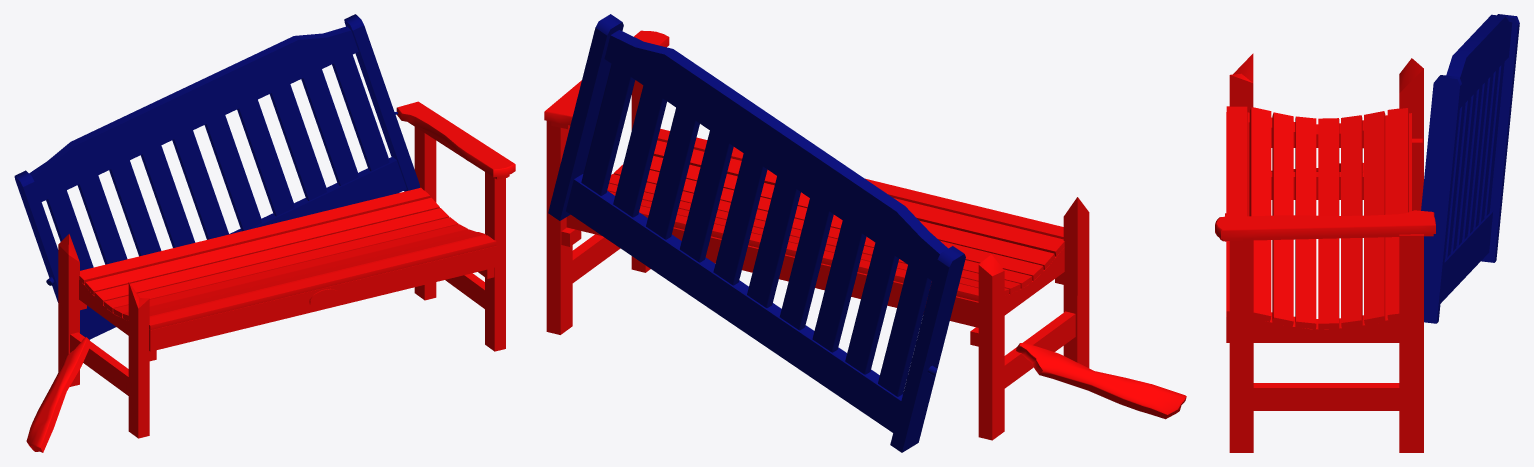
File: Bench.FBX
3 renders of one model, left to right at view 1: azimuth 30°, elevation 25°; view 2: azimuth 150°, elevation 25°; view 3: azimuth 270°, elevation 25°, orthographic. The views are drawn at different scales.
Visible parts, largest first — view 1: Bench, Backend; view 2: Backend, Bench; view 3: Bench, Backend.
Part boxes in pixels (x1,y1,x2,y2): Bench: (26,101,515,452); Backend: (14,14,419,340); Backend: (548,14,965,452); Bench: (544,30,1186,440); Bench: (1215,53,1435,452); Backend: (1421,14,1519,323).
Bounding box in the file's own units: 127 × 74.48 × 59.64.
